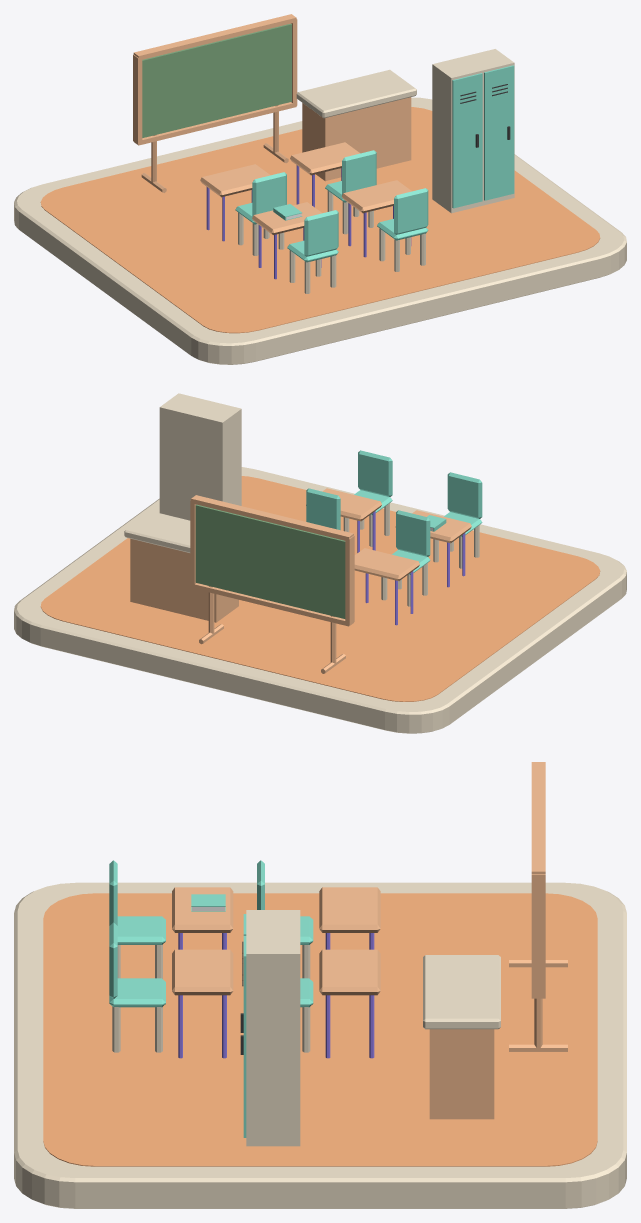
Rendered from room.fbx.
3 renders of one model, top to bottom at view 1: azimuth 30°, elevation 25°; view 2: azimuth 150°, elevation 25°; view 3: azimuth 270°, elevation 25°, orthographic. The views are drawn at different scales.
Parts seen in each view (by area): view 1: COM-02 Floor Surface, COM-01 Rounded Base Direct, Board, Desk body, Case, Door.001, Door, Desk top, Rail.001, Backrest, Backrest.001, Rounded table top.002 (+8 smaller); view 2: COM-02 Floor Surface, COM-01 Rounded Base Direct, Board, Case, Desk body, Desk top, Rail.001, Backrest, Rounded table top.002, Backrest.001, Backrest.002, Backrest.003 (+5 smaller); view 3: COM-02 Floor Surface, COM-01 Rounded Base Direct, Case, Desk body, Desk top, Rounded table top.003, Rounded table top.001, Rounded table top.002, Rounded table top, Frame.001, Rail.001, Seat.001 (+3 smaller).
Boxes of the visible parts, bbox=[...] form: COM-02 Floor Surface: bbox=[40, 107, 600, 333]; COM-01 Rounded Base Direct: bbox=[14, 97, 626, 364]; Board: bbox=[142, 23, 291, 137]; Desk body: bbox=[302, 97, 411, 181]; Case: bbox=[432, 49, 514, 213]; Door.001: bbox=[484, 65, 514, 200]; Door: bbox=[452, 73, 482, 208]; Desk top: bbox=[296, 69, 416, 118]; Rail.001: bbox=[133, 14, 296, 60]; Backrest: bbox=[304, 210, 338, 256]; Backrest.001: bbox=[394, 188, 428, 234]; Rounded table top.002: bbox=[200, 164, 270, 197]; COM-02 Floor Surface: bbox=[40, 476, 600, 701]; COM-01 Rounded Base Direct: bbox=[14, 467, 626, 733]; Board: bbox=[195, 504, 345, 618]; Case: bbox=[159, 393, 241, 520]; Desk body: bbox=[130, 538, 238, 622]; Desk top: bbox=[124, 511, 190, 552]; Rail.001: bbox=[191, 495, 353, 540]; Backrest: bbox=[447, 472, 482, 518]; Rounded table top.002: bbox=[354, 548, 419, 580]; Backrest.001: bbox=[358, 450, 392, 496]; Backrest.002: bbox=[396, 510, 430, 556]; Backrest.003: bbox=[306, 488, 340, 530]; COM-02 Floor Surface: bbox=[43, 893, 597, 1166]; COM-01 Rounded Base Direct: bbox=[14, 882, 626, 1208]; Case: bbox=[246, 910, 300, 1146]; Desk body: bbox=[429, 1029, 494, 1119]; Desk top: bbox=[423, 955, 500, 1029]; Rounded table top.003: bbox=[319, 949, 380, 995]; Rounded table top.001: bbox=[172, 949, 233, 995]; Rounded table top.002: bbox=[319, 887, 380, 932]; Rounded table top: bbox=[172, 887, 233, 932]; Frame.001: bbox=[531, 874, 545, 997]; Rail.001: bbox=[531, 762, 545, 874]; Seat.001: bbox=[109, 978, 165, 1007].
Size of the model in its own units: 600 by 210 by 520.
